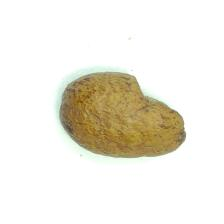NG: (131, 73, 188, 132)
